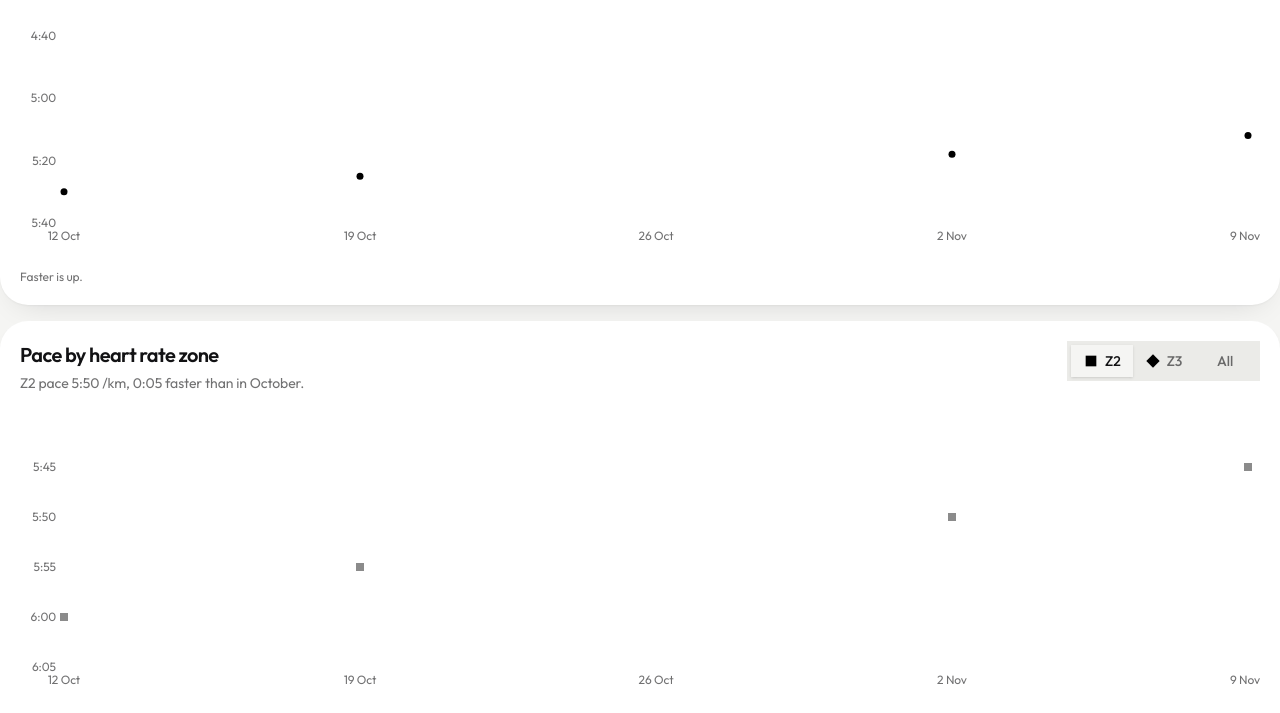
Test case: RunProgressView › switches the chart and the takeaway to the picked zone
(page scrolled)
Step 1. Click the tab with test id "zone-tab-3" → (1164, 360), box [1133,344,1194,376]
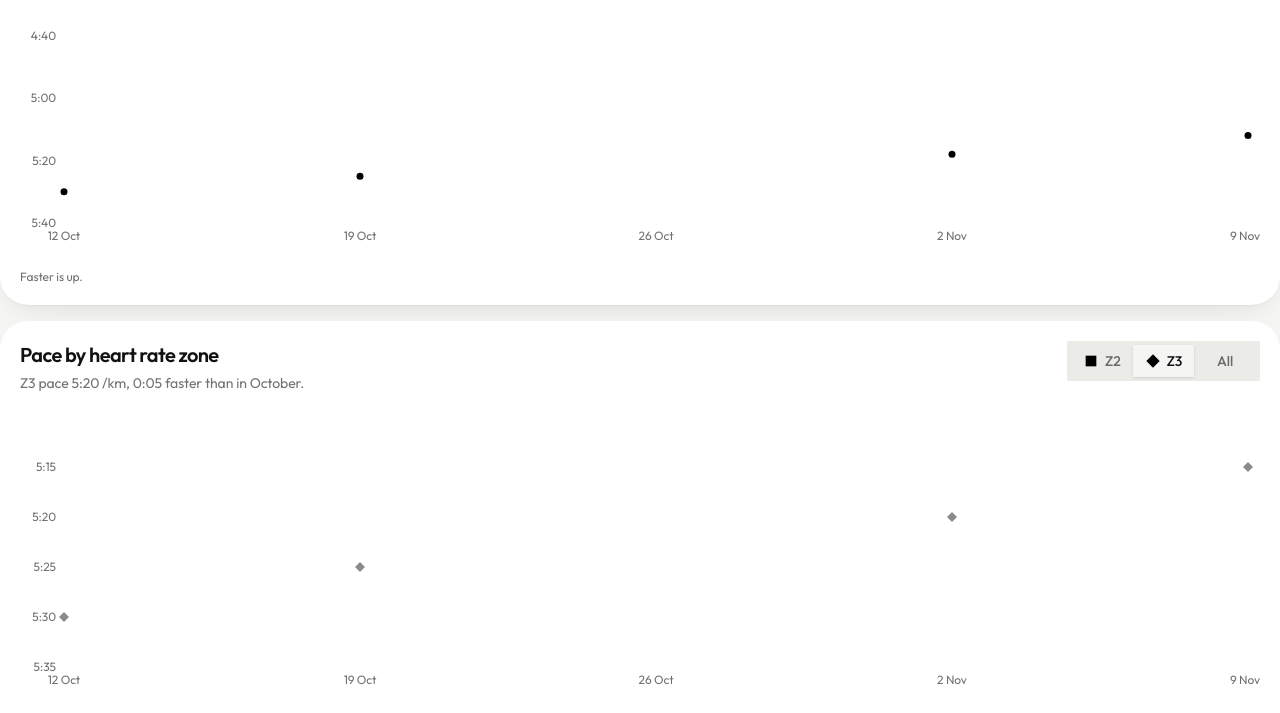
Expected: the text with test id "zone-chart-takeaway" reads "Z3 pace 5:20 /km, 0:05 faster than in October.", [20,374,304,392]
